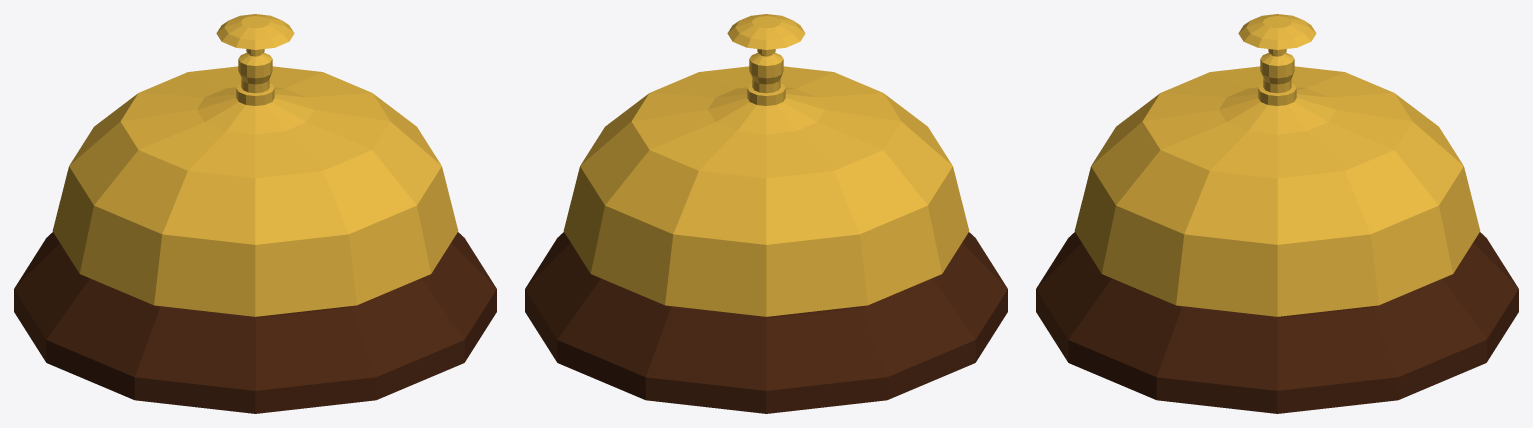
Rendered from Service_Bell.fbx.
3 views of the same model, side by side, from view 1: azimuth 30°, elevation 25°; view 2: azimuth 150°, elevation 25°; view 3: azimuth 270°, elevation 25° (orthographic).
Parts seen in each view (by area): view 1: Service_Bell; view 2: Service_Bell; view 3: Service_Bell.
Boxes of the visible parts, bbox=[...] form: Service_Bell: bbox=[14, 14, 496, 413]; Service_Bell: bbox=[525, 14, 1007, 413]; Service_Bell: bbox=[1036, 14, 1518, 413].
Bounding box in the file's own units: 280 × 185 × 280.
